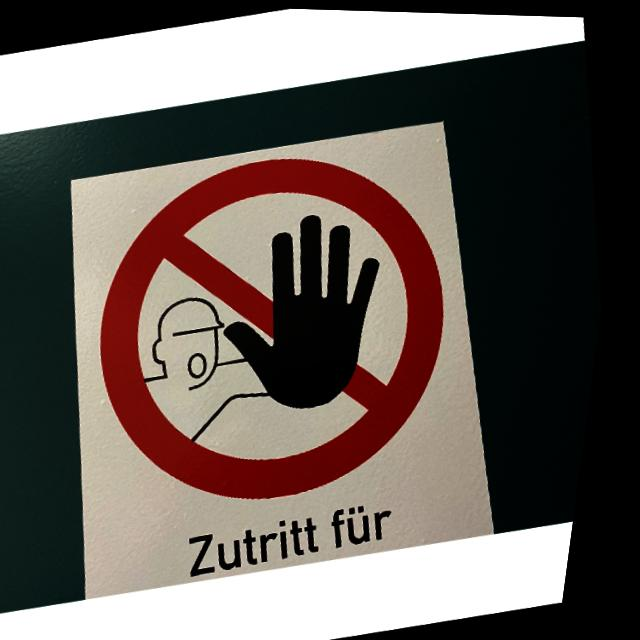No access for unauthorized persons: (61, 122, 503, 531)
